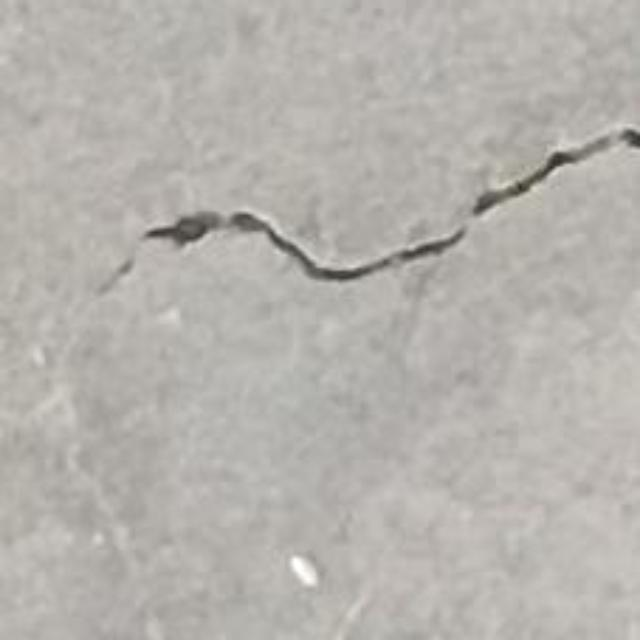crack: (139, 126, 639, 280)
